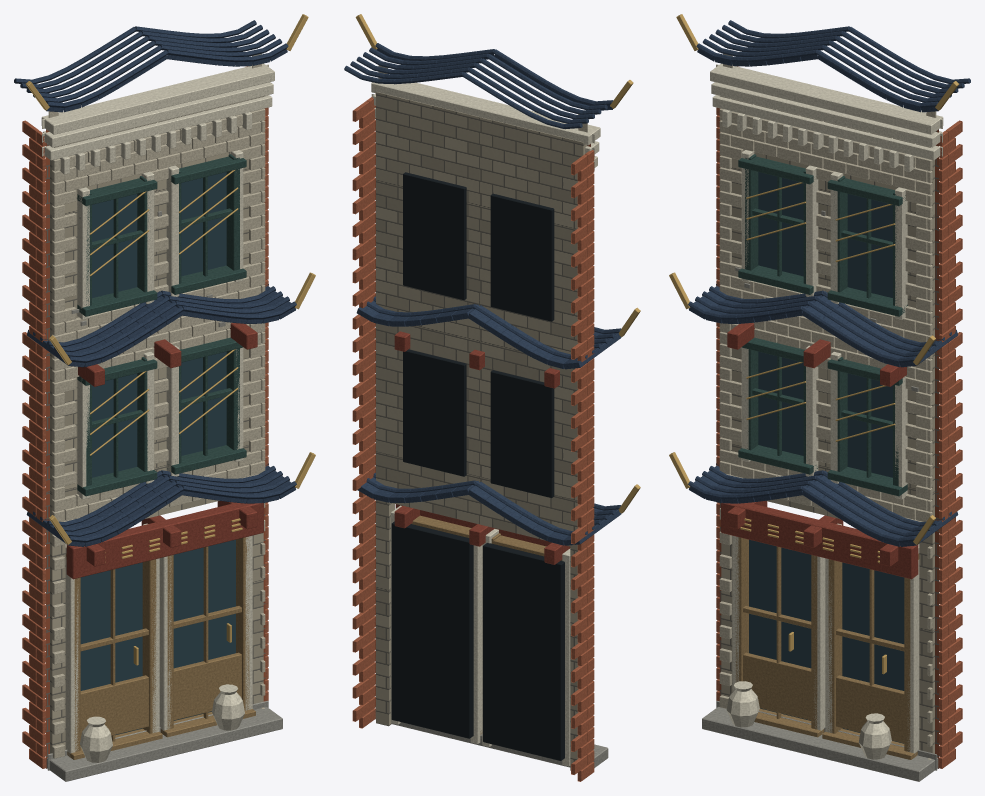
File: CHINA13_lod0.glb
The picture shows the model from 3 angles, left to right: view 1: azimuth 30°, elevation 25°; view 2: azimuth 150°, elevation 25°; view 3: azimuth 330°, elevation 25°; orthographic projection.
Visible parts, largest first — view 1: CHINA13_FRONT_LOD0; view 2: CHINA13_FRONT_LOD0; view 3: CHINA13_FRONT_LOD0.
Boxes of the visible parts, x1,y1,x2,y2 form: CHINA13_FRONT_LOD0: [14, 14, 315, 781]; CHINA13_FRONT_LOD0: [344, 14, 640, 781]; CHINA13_FRONT_LOD0: [669, 14, 970, 781].
Bounding box in the file's own units: 4.25 × 10.17 × 1.3.
Materials: 18 (15 with a texture image).
